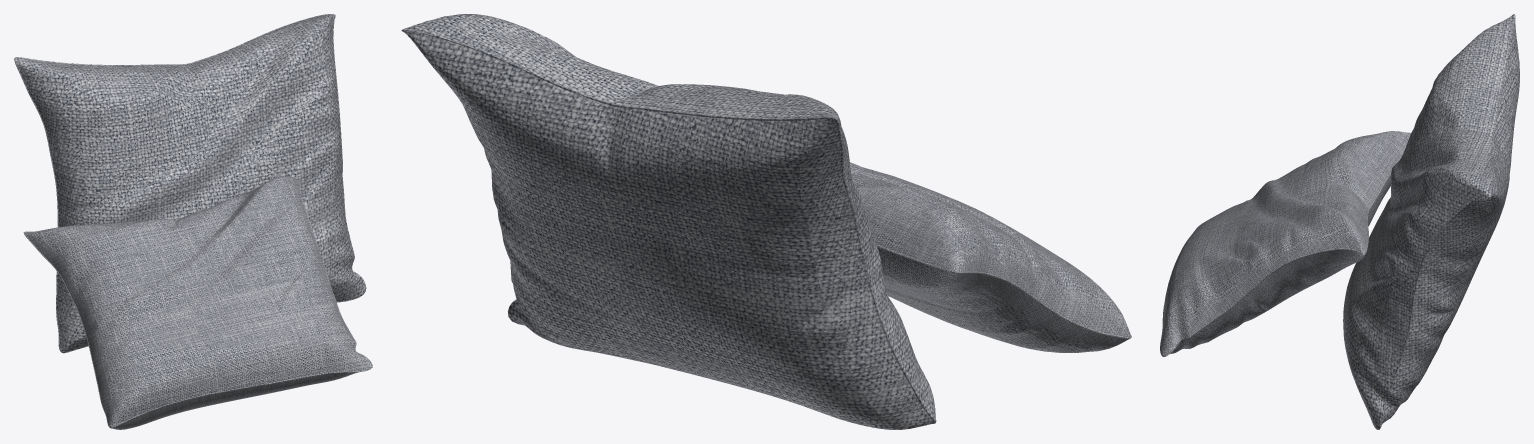
File: zhentou4.obj
3 renders of one model, left to right at view 1: azimuth 30°, elevation 25°; view 2: azimuth 150°, elevation 25°; view 3: azimuth 270°, elevation 25°, orthographic. The views are drawn at different scales.
Visible parts, largest first — view 1: Obj3d66_494305_8_150, Obj3d66_494305_7_170; view 2: Obj3d66_494305_8_150, Obj3d66_494305_7_170; view 3: Obj3d66_494305_8_150, Obj3d66_494305_7_170.
Part boxes in pixels (<box>): Obj3d66_494305_8_150: <box>14,14,366,353</box>; Obj3d66_494305_7_170: <box>23,176,372,429</box>; Obj3d66_494305_8_150: <box>401,14,936,429</box>; Obj3d66_494305_7_170: <box>850,162,1131,352</box>; Obj3d66_494305_8_150: <box>1343,14,1519,429</box>; Obj3d66_494305_7_170: <box>1160,131,1411,356</box>.
Size of the model in its own units: 18.05 by 12.31 by 14.75.
